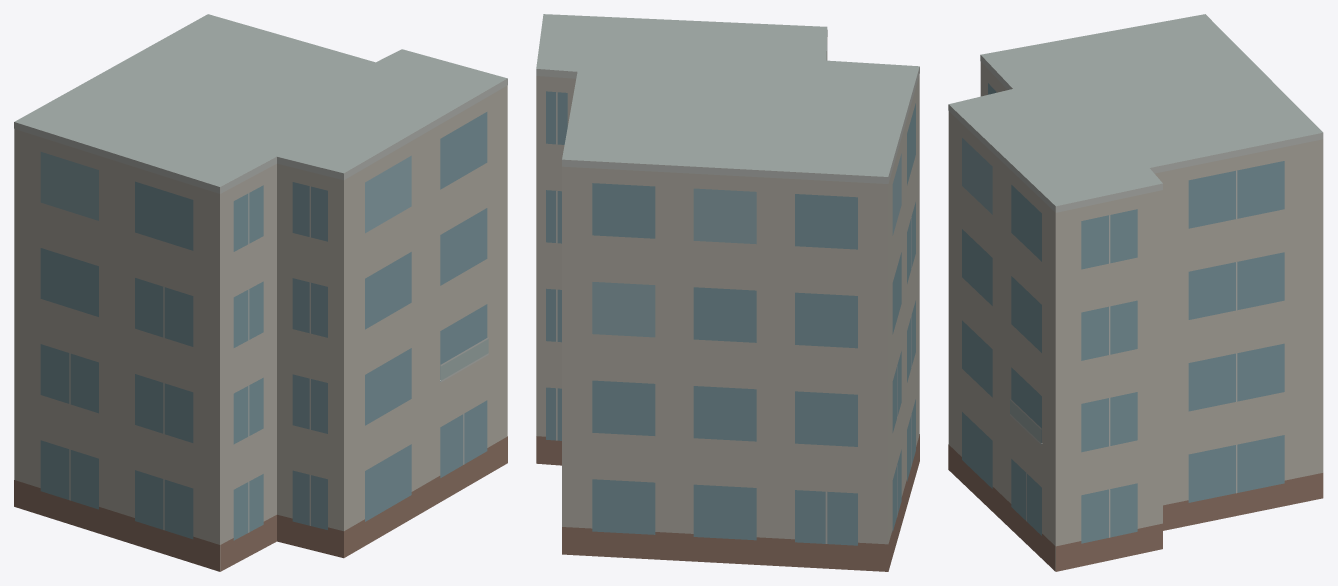
The model's file is survey-upis-32774435.glb.
3 views of the same model, side by side, from view 1: azimuth 30°, elevation 25°; view 2: azimuth 150°, elevation 25°; view 3: azimuth 270°, elevation 25° (orthographic). The views are drawn at different scales.
Parts seen in each view (by area): view 1: survey-upis-32774435.tmp; view 2: survey-upis-32774435.tmp; view 3: survey-upis-32774435.tmp.
Part boxes in pixels (bbox=[...]): survey-upis-32774435.tmp: bbox=[14, 14, 507, 571]; survey-upis-32774435.tmp: bbox=[536, 14, 919, 571]; survey-upis-32774435.tmp: bbox=[948, 14, 1323, 571].
Size of the model in its own units: 15.36 by 13.6 by 12.65.
